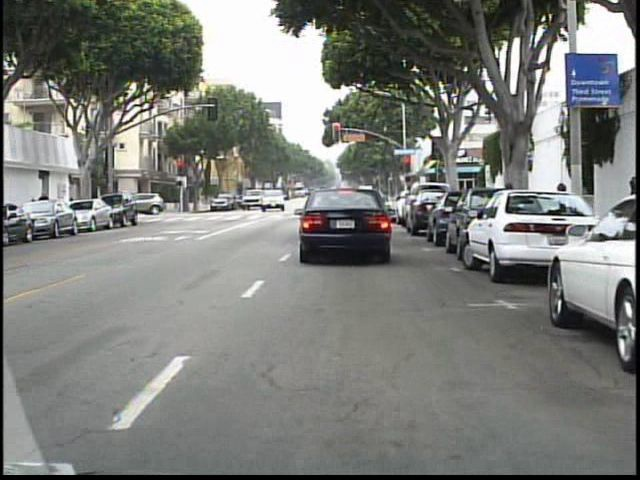person: (37, 189, 54, 228), (137, 190, 152, 218)
